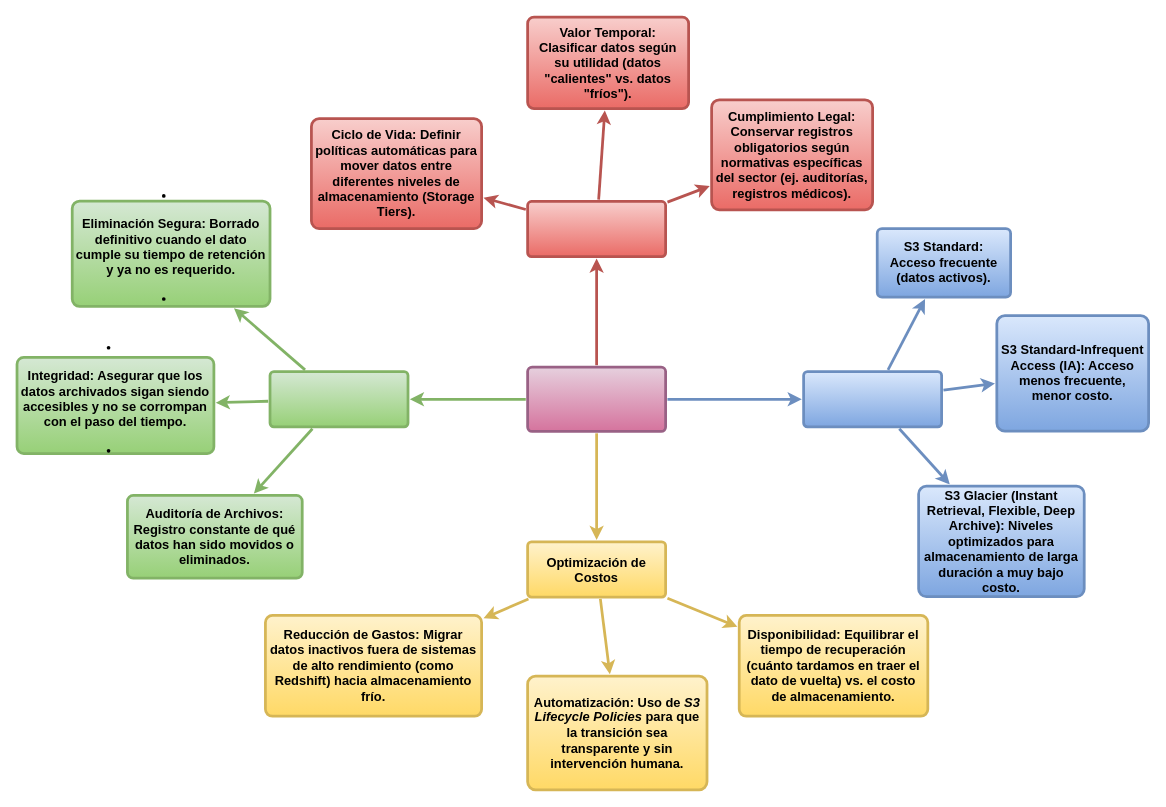
Some shapes in this 1166 by 807 pixel diagram are drawn without their labels. The box of each missing label's shape, as (x1, y1, x2, y2) in pixels:
Disposición Final: (268, 370, 409, 428)
Estrategia de Retención: (526, 200, 667, 258)
Etapa 5 - Archivado de Datos: (526, 365, 667, 432)
Niveles de Almacenamiento AWS (S3): (802, 370, 943, 428)
